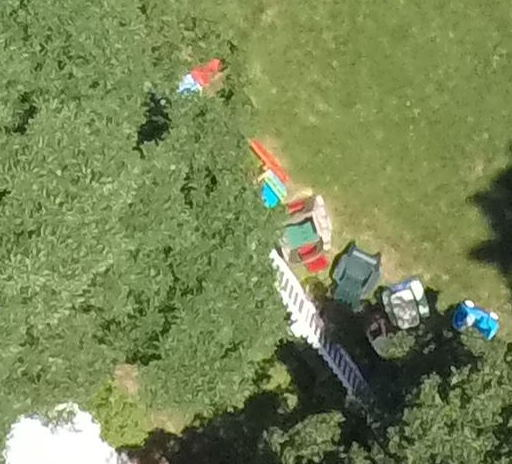toy: (451, 284, 508, 343)
